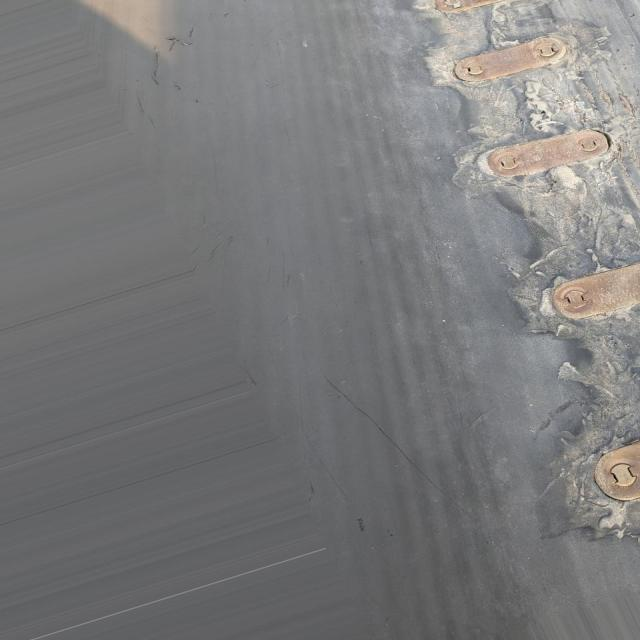patch work: (401, 0, 640, 541)
